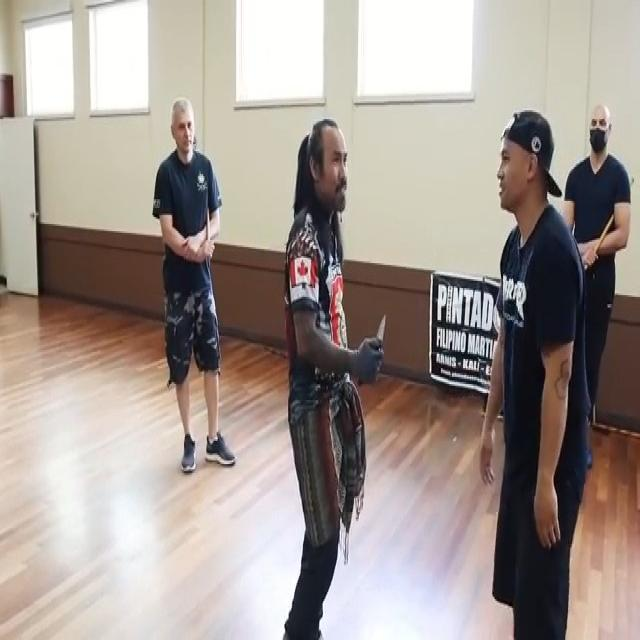Sharp-Object: (354, 314, 388, 386)
